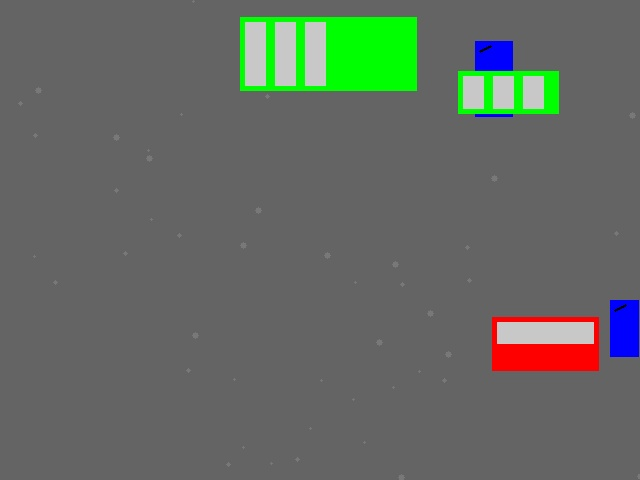bus: (240, 17, 416, 90), (458, 71, 558, 113)
car: (492, 317, 598, 370)
motorcycle: (475, 41, 512, 116), (610, 300, 638, 356)
